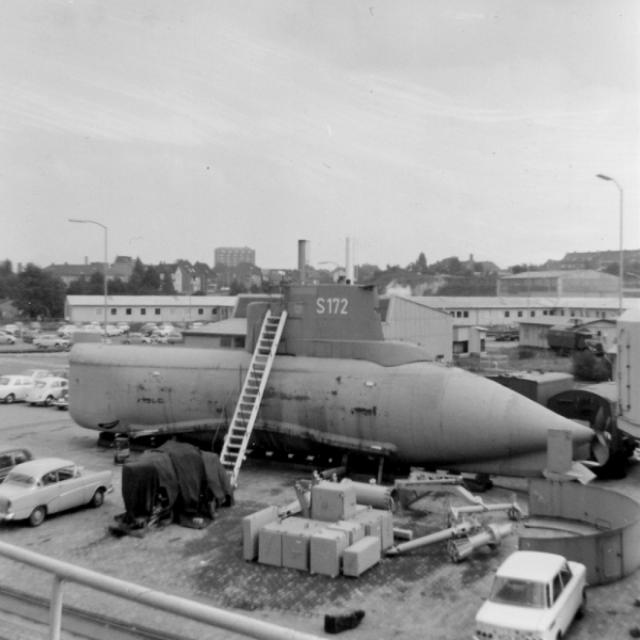submarine: (67, 287, 603, 478)
